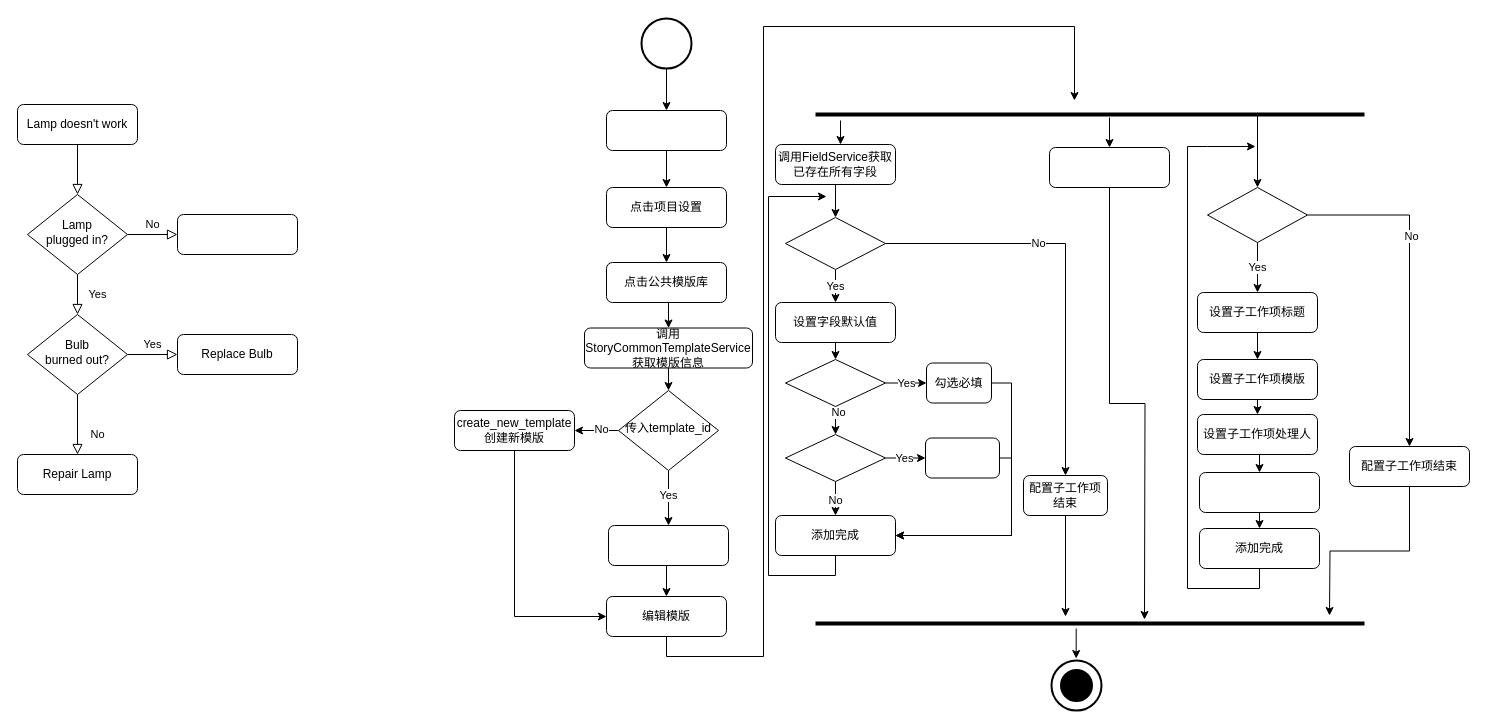
This 1487x728 diagram has some shape labels left out. The centre of each missing label's shape, as x and y in pixels:
"Plug in lamp" belongs at point (237, 234).
"修改现存模版" belongs at point (668, 545).
"是否必填" belongs at point (835, 382).
"是否添加预设子工作项目" belongs at point (1257, 214).
"是否设置联动展示" belongs at point (835, 458).
"是否配置已存在字段" belongs at point (835, 243).
"设置模版基础内容（标题、名称、详细）" belongs at point (1109, 167).
"选择对应项目并且开启需求" belongs at point (666, 130).
"配置是否以父工作项作为标题前缀或后缀" belongs at point (1259, 492).
"配置联动展示字段，以及展示条件" belongs at point (962, 457).
